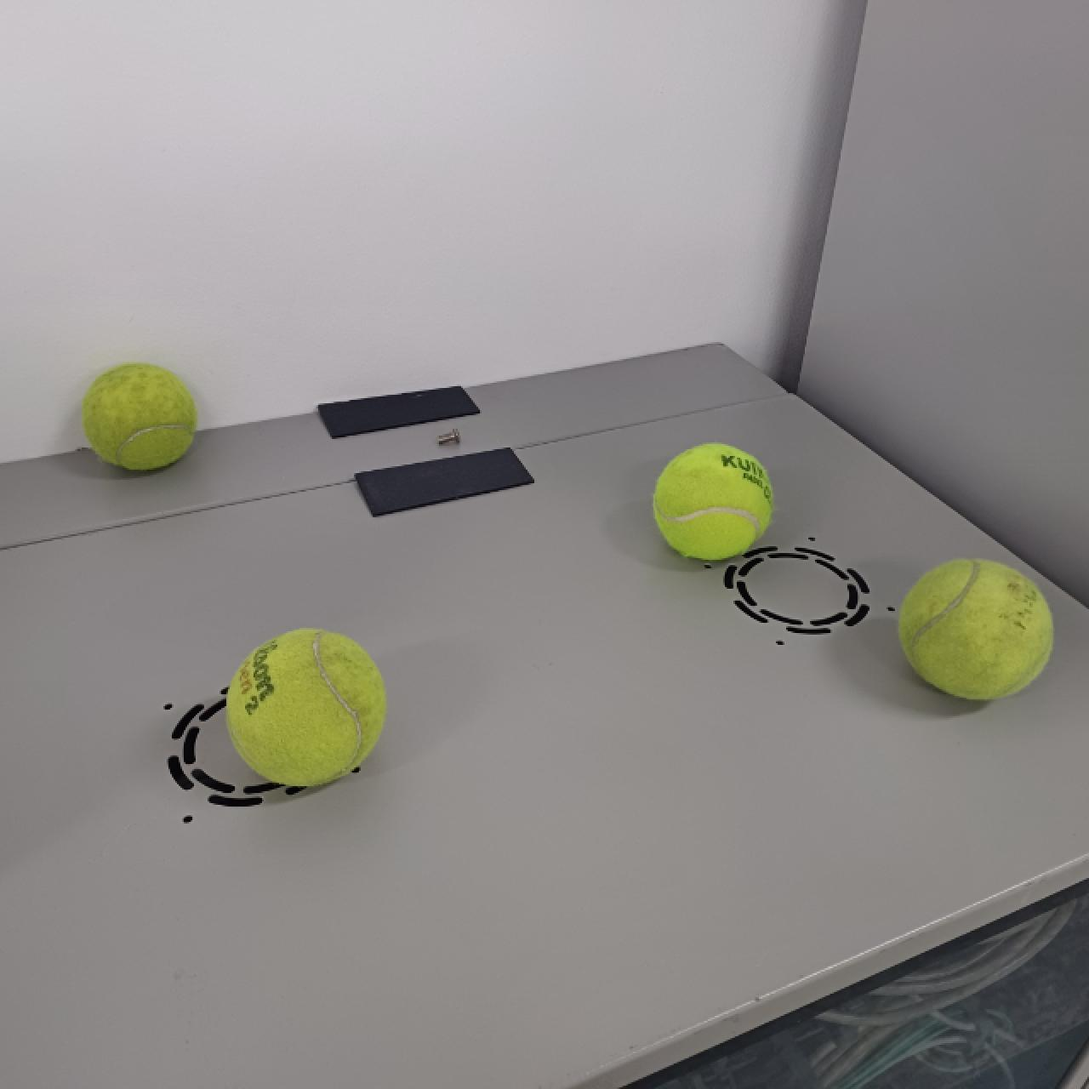tennis-ball: (226, 626, 386, 787), (897, 556, 1055, 703), (652, 442, 776, 560), (80, 362, 196, 471)
